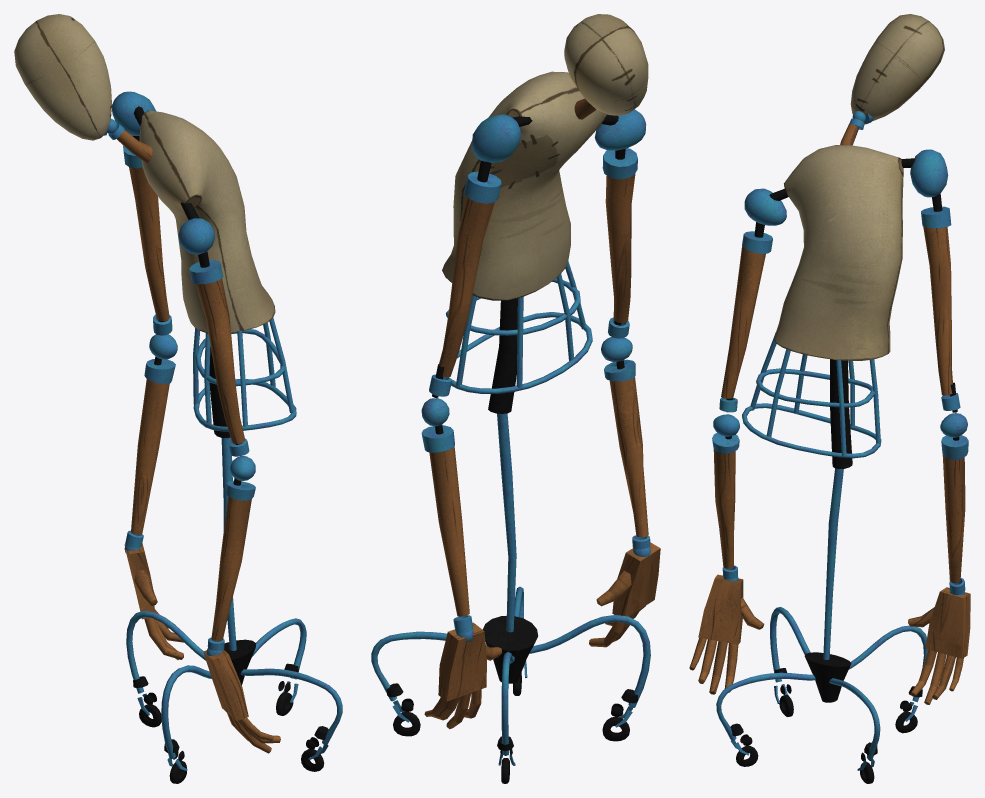
3 renders of one model, left to right at view 1: azimuth 30°, elevation 25°; view 2: azimuth 150°, elevation 25°; view 3: azimuth 270°, elevation 25°, orthographic. The views are drawn at different scales.
Parts seen in each view (by area): view 1: Object_4, Object_2, Object_3, Object_6, Object_5; view 2: Object_4, Object_2, Object_3, Object_6, Object_5; view 3: Object_4, Object_2, Object_3, Object_6, Object_5.
Boxes of the visible parts, bbox=[...] form: Object_4: bbox=[14, 14, 275, 333]; Object_2: bbox=[117, 130, 280, 753]; Object_3: bbox=[104, 91, 342, 770]; Object_6: bbox=[139, 347, 324, 783]; Object_5: bbox=[132, 106, 328, 761]; Object_4: bbox=[442, 14, 648, 300]; Object_2: bbox=[424, 98, 660, 729]; Object_3: bbox=[371, 109, 650, 765]; Object_6: bbox=[393, 298, 629, 783]; Object_5: bbox=[386, 114, 637, 757]; Object_4: bbox=[774, 14, 944, 360]; Object_2: bbox=[689, 123, 970, 704]; Object_3: bbox=[712, 111, 968, 770]; Object_6: bbox=[736, 359, 917, 783]; Object_5: bbox=[725, 158, 959, 761].
Size of the model in its own units: 3.41 by 8.85 by 3.35.
5 materials, 5 textured.
